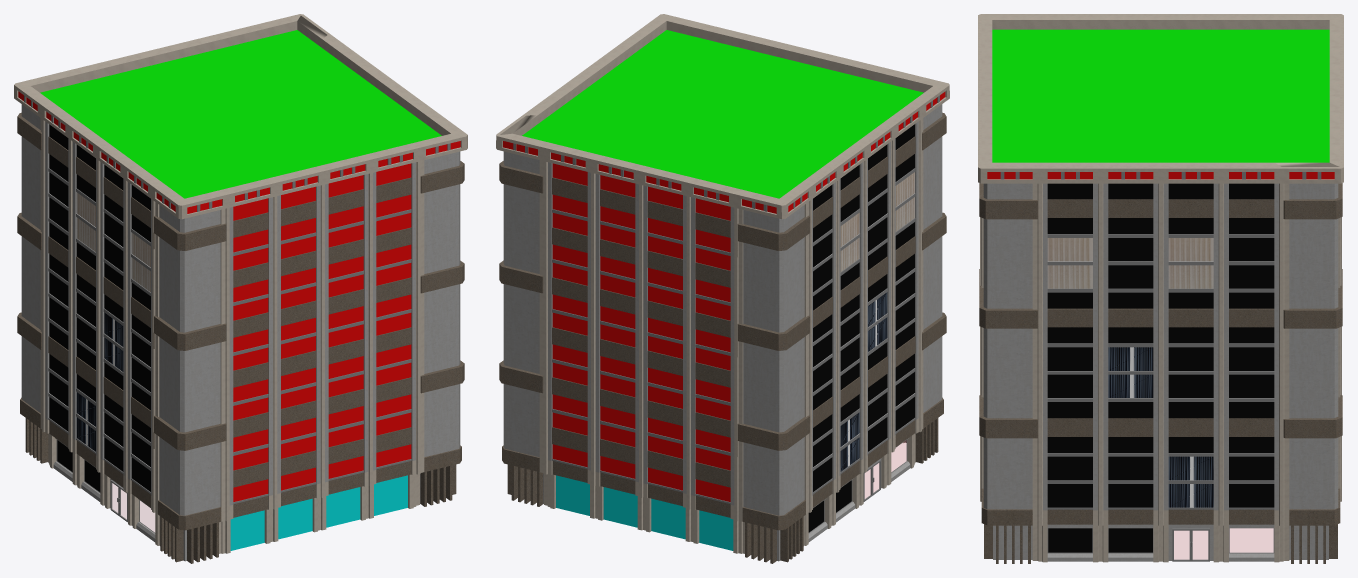
Rendered from Building01_B.fbx.
3 views of the same model, side by side, from view 1: azimuth 30°, elevation 25°; view 2: azimuth 150°, elevation 25°; view 3: azimuth 270°, elevation 25° (orthographic). The views are drawn at different scales.
Parts seen in each view (by area): view 1: Building01_B1; view 2: Building01_B1; view 3: Building01_B1.
Part boxes in pixels (x1,y1,x2,y2): Building01_B1: (14, 14, 467, 563); Building01_B1: (496, 14, 949, 563); Building01_B1: (978, 14, 1343, 563).
Bounding box in the file's own units: 3638 × 4363 × 3638.
